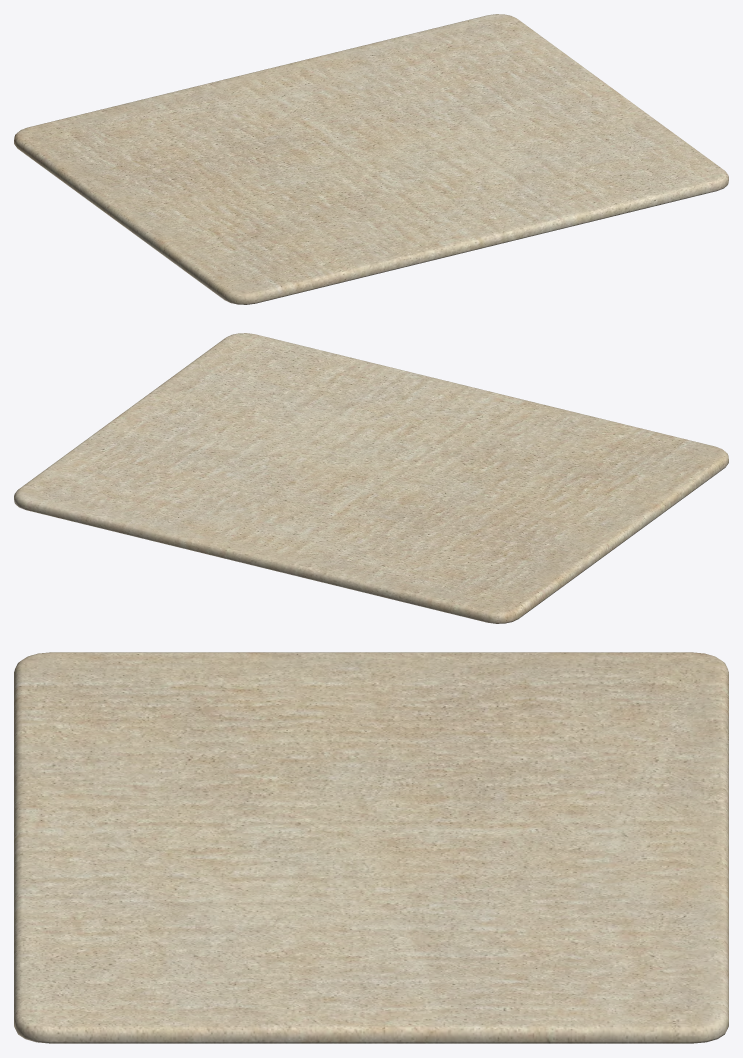
The model's file is B0714MJKX2.glb.
3 views of the same model, one above another, from view 1: azimuth 30°, elevation 25°; view 2: azimuth 150°, elevation 25°; view 3: azimuth 270°, elevation 25° (orthographic). The views are drawn at different scales.
Visible parts, largest first — view 1: RootNode; view 2: RootNode; view 3: RootNode.
Part boxes in pixels (left/top/right/bottom): RootNode: left=14, top=14, right=728, bottom=304; RootNode: left=14, top=333, right=728, bottom=623; RootNode: left=14, top=652, right=728, bottom=1043.
Size of the model in its own units: 2.53 by 0.0478 by 2.01.
Materials: 1 (1 with a texture image).
